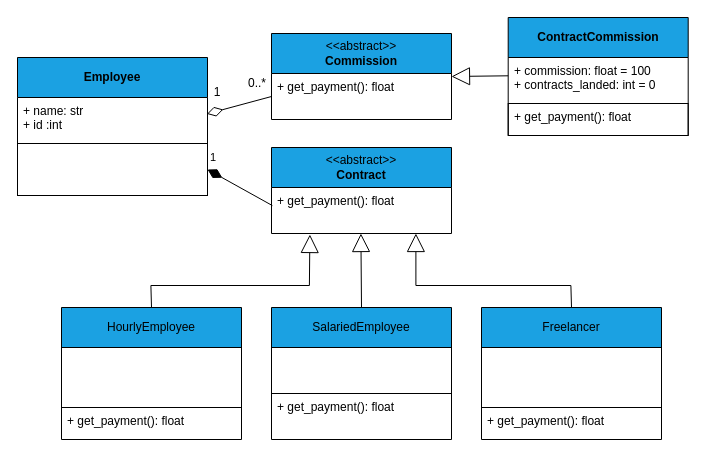
Image size: 706x460. Some labels were removed from this diagram. Each missing label, with the centre of its shape:
+ compute_pay(): float: [112,169]
+monthly_salary: float +percentage: float = 1: [361,370]
+pay_rate: float +hours_worked: int = 0 +employer_cost: float = 1000: [151,377]
+pay_rate: float +hours_worked: int = 0 +vat_number: str = "": [571,377]
